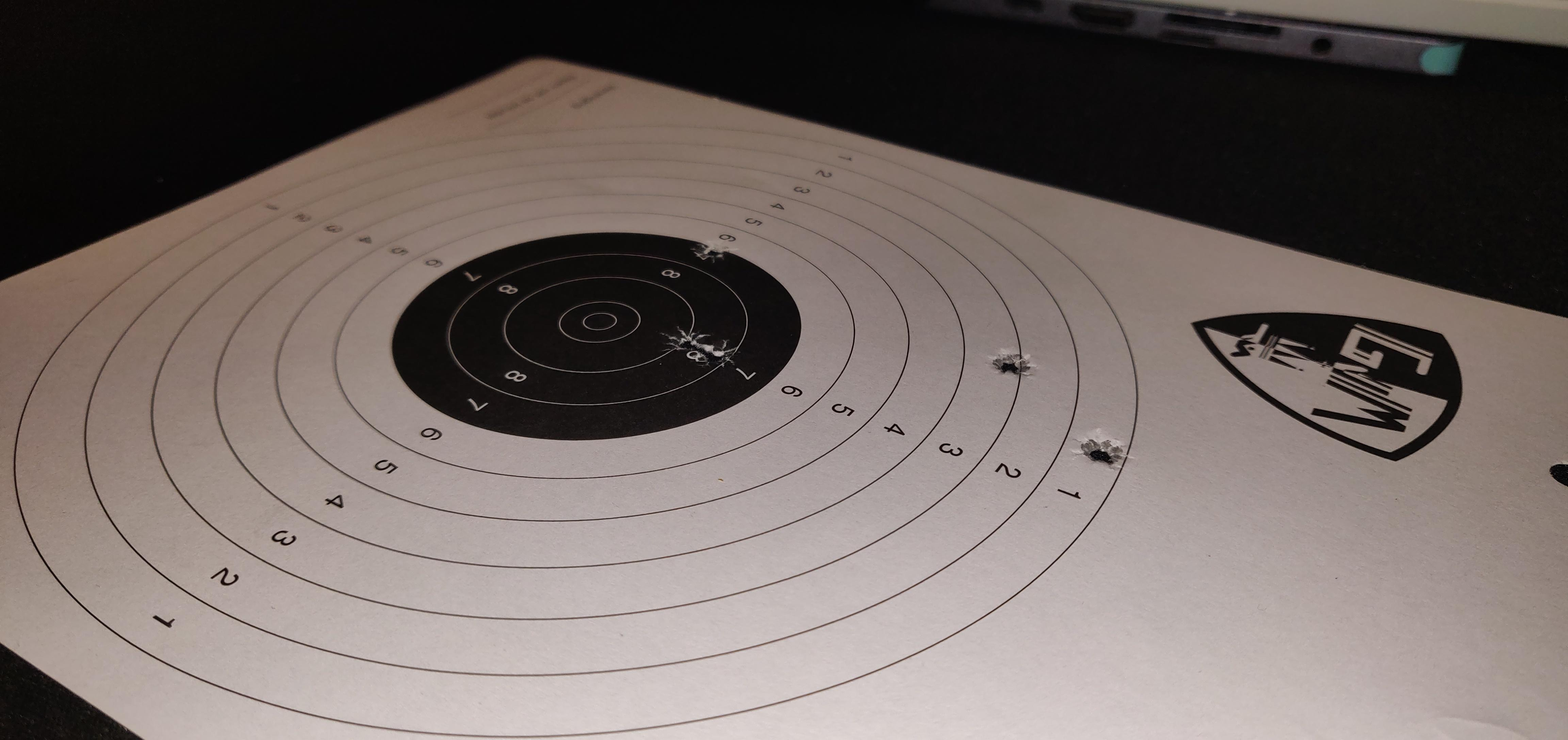hole: (1071, 427, 1126, 473), (991, 349, 1040, 381), (662, 329, 706, 353), (690, 240, 734, 264), (703, 335, 734, 366)
